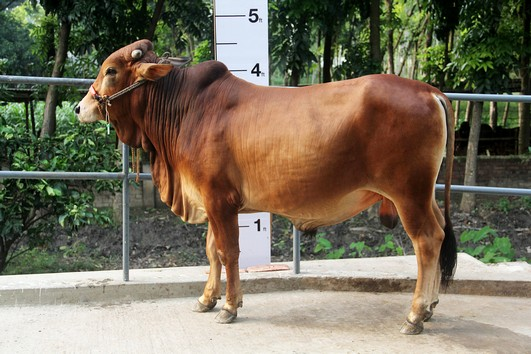cow: (69, 28, 461, 342)
